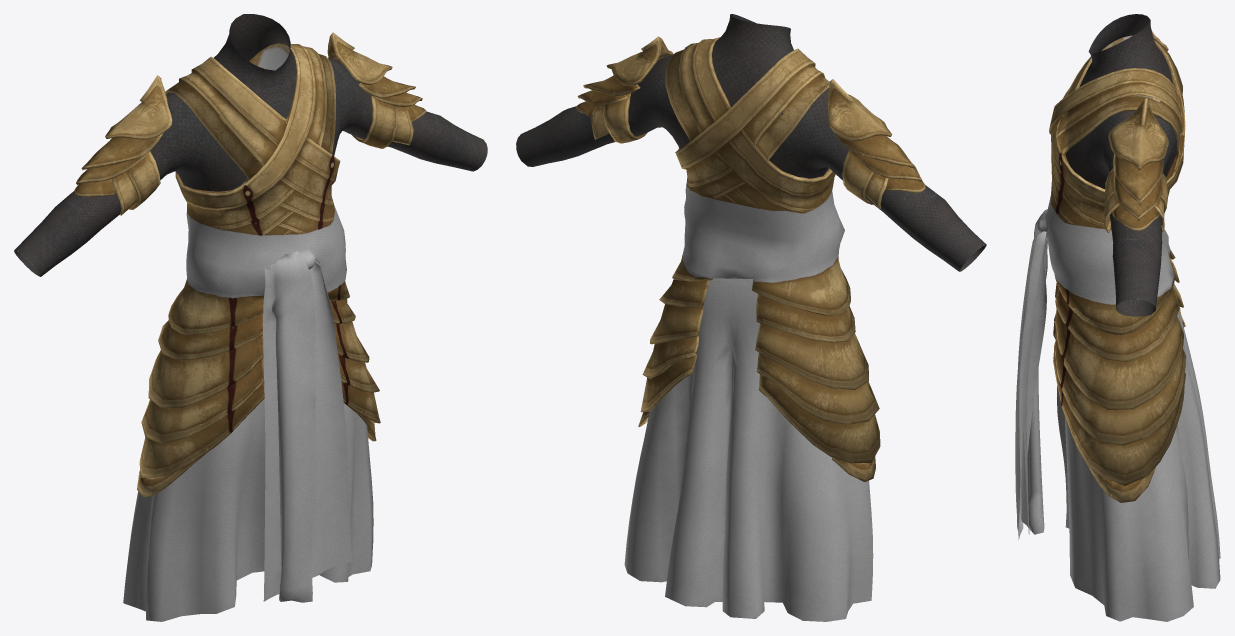
File: rivendell_body_gold_a.fbx
The picture shows the model from 3 angles, left to right: view 1: azimuth 30°, elevation 25°; view 2: azimuth 150°, elevation 25°; view 3: azimuth 270°, elevation 25°; orthographic projection. The views are drawn at different scales.
Parts seen in each view (by area): view 1: rivendell_body_gold_a; view 2: rivendell_body_gold_a; view 3: rivendell_body_gold_a.
Boxes of the visible parts, left/top/right/bottom form: rivendell_body_gold_a: left=14, top=14, right=487, bottom=621; rivendell_body_gold_a: left=516, top=14, right=986, bottom=621; rivendell_body_gold_a: left=1015, top=14, right=1220, bottom=621.
Size of the model in its own units: 1.23 by 0.4871 by 1.45.
1 material, 1 textured.
